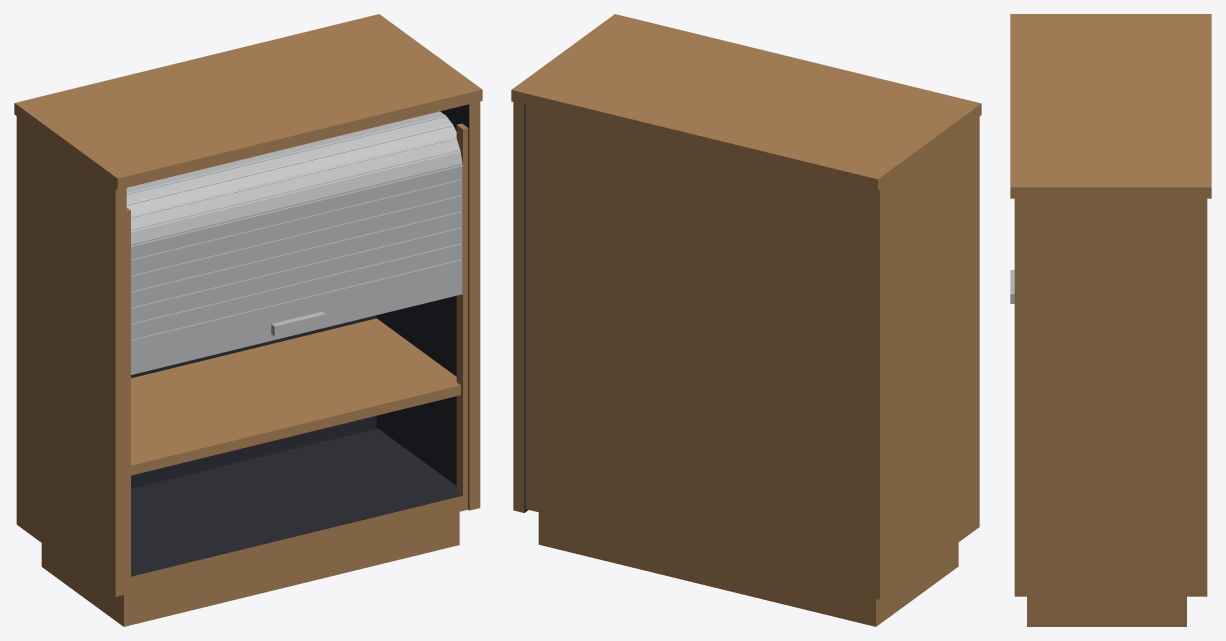
File: FN_Cabinet_Tambour.glb
3 renders of one model, left to right at view 1: azimuth 30°, elevation 25°; view 2: azimuth 150°, elevation 25°; view 3: azimuth 270°, elevation 25°, orthographic. The views are drawn at different scales.
Parts seen in each view (by area): view 1: FN_Cabinet_Tambour; view 2: FN_Cabinet_Tambour; view 3: FN_Cabinet_Tambour.
Part boxes in pixels (x1,y1,x2,y2): FN_Cabinet_Tambour: (14,14,482,626); FN_Cabinet_Tambour: (511,14,981,626); FN_Cabinet_Tambour: (1010,14,1211,626).
Size of the model in its own units: 1 by 1.2 by 0.49.
Materials: 1 (1 with a texture image).
